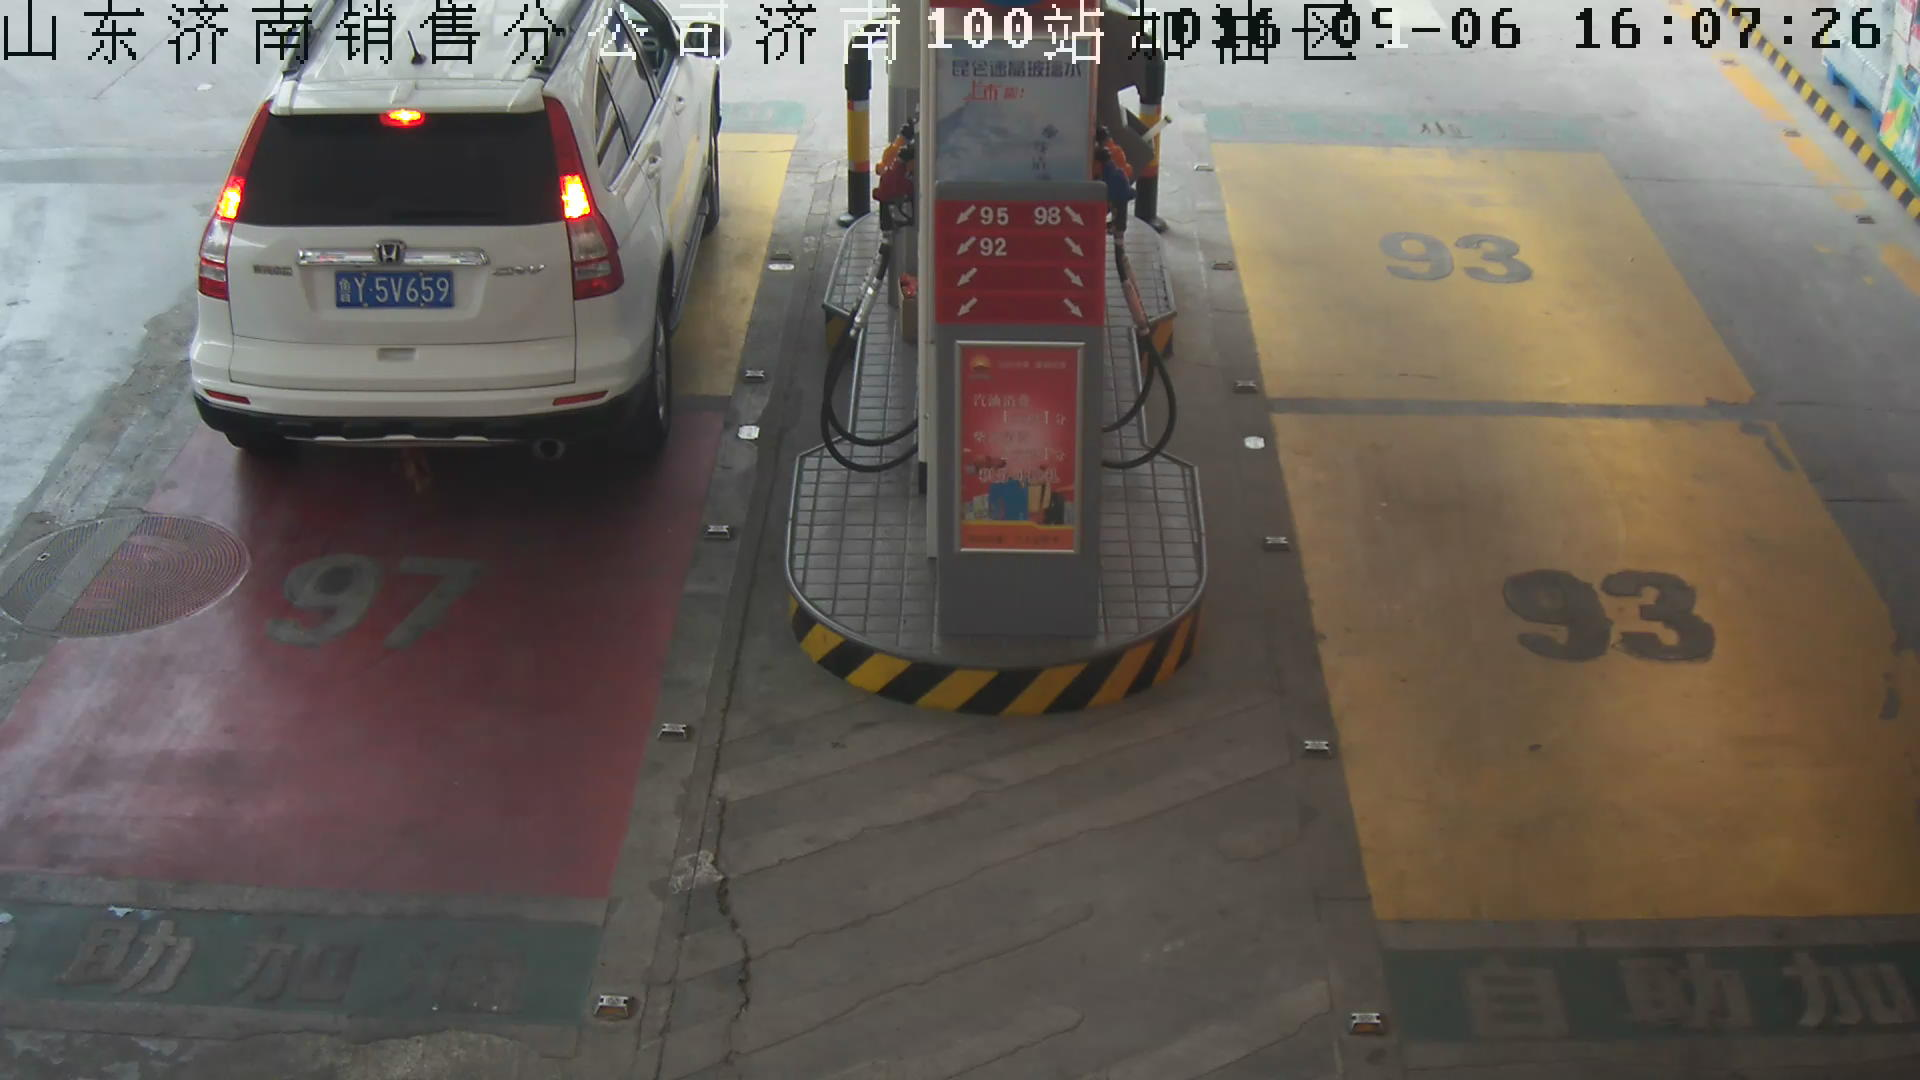blue: (334, 270, 458, 313)
